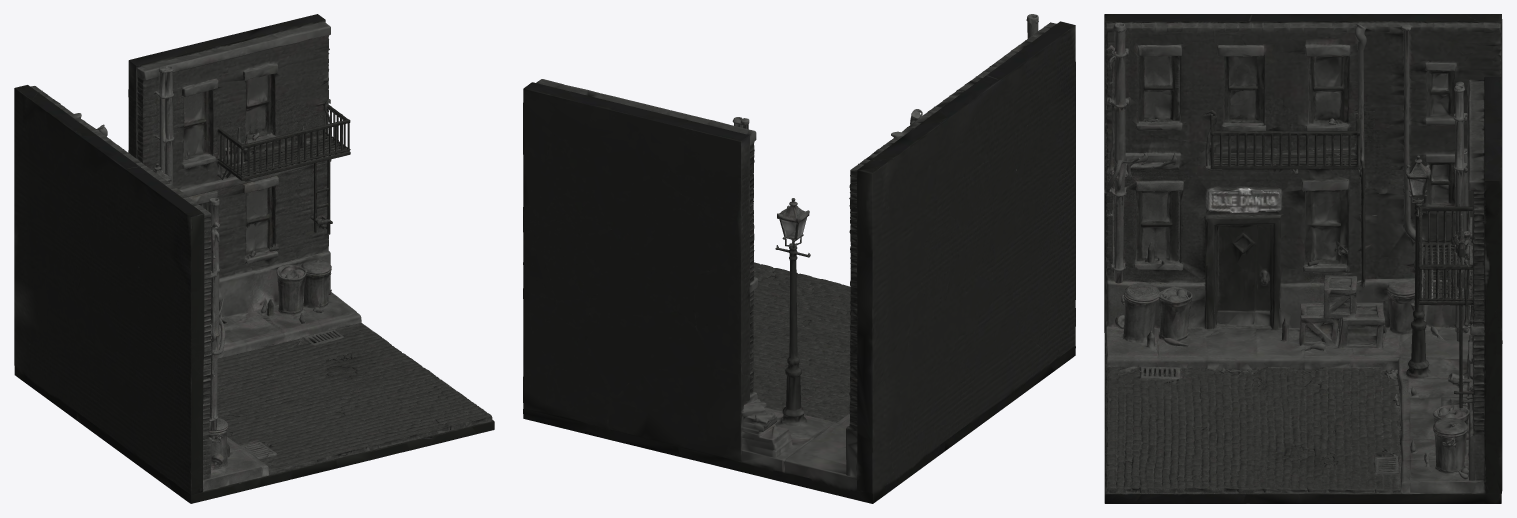
The model's file is alley.glb.
3 views of the same model, side by side, from view 1: azimuth 30°, elevation 25°; view 2: azimuth 150°, elevation 25°; view 3: azimuth 270°, elevation 25° (orthographic). The views are drawn at different scales.
Size of the model in its own units: 1.89 by 1.74 by 1.91.
Materials: 1 (1 with a texture image).
